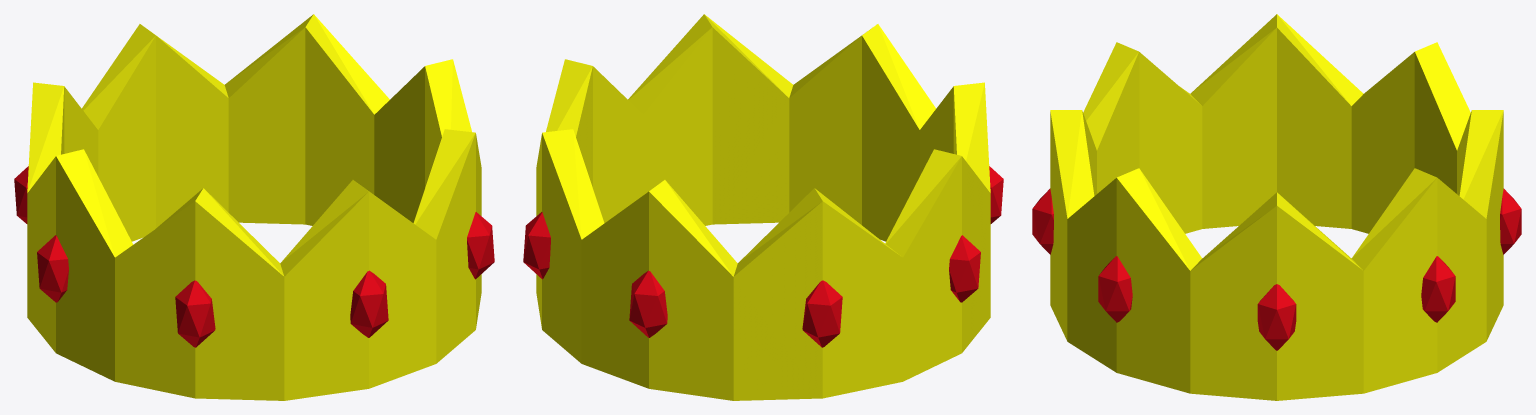
File: Crown.dae
3 renders of one model, left to right at view 1: azimuth 30°, elevation 25°; view 2: azimuth 150°, elevation 25°; view 3: azimuth 270°, elevation 25°, orthographic.
Visible parts, largest first — view 1: Circle, Gems; view 2: Circle, Gems; view 3: Circle, Gems.
Boxes of the visible parts, box(x1,y1,x2,y2) form: Circle: box(27, 14, 481, 400); Gems: box(14, 166, 494, 347); Circle: box(536, 14, 990, 400); Gems: box(523, 166, 1003, 347); Circle: box(1050, 14, 1503, 400); Gems: box(1032, 188, 1521, 350).
Bounding box in the file's own units: 2.17 × 2.16 × 0.9504.
